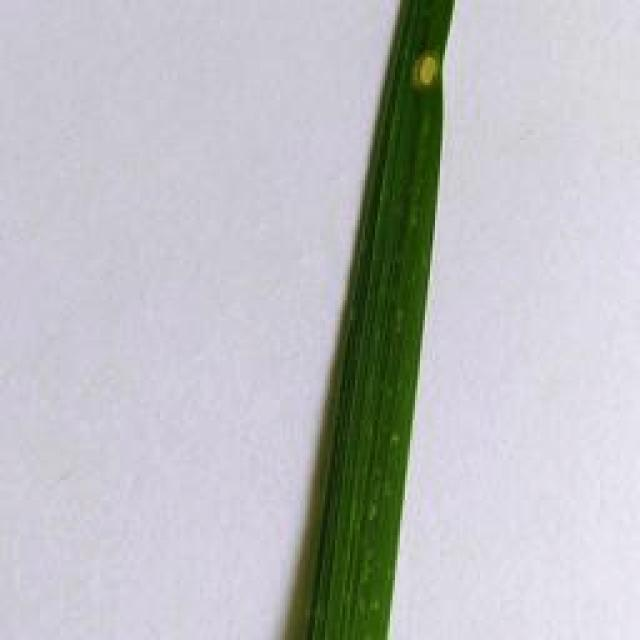Unhealthy: (413, 48, 442, 90)
